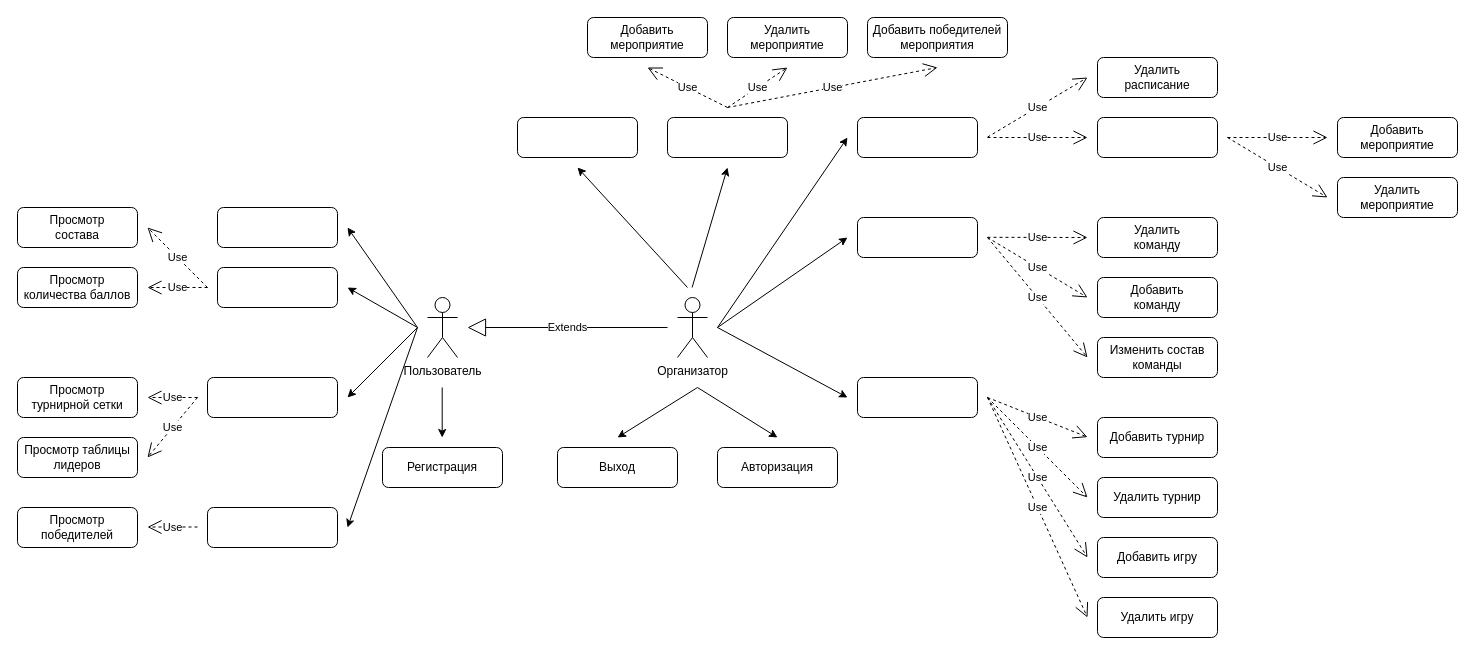
Some shapes in this 1475 by 655 pixel diagram are drawn without their labels. Here are the shapes that lost their labels. From the top down, the centre of each, then its label:
At point (577, 137): "Добавить баллы команде".
At point (727, 137): "Творчество".
At point (917, 137): "Расписание".
At point (1157, 137): "Добавить расписание".
At point (277, 227): "Просмотр расписания".
At point (917, 237): "Команды".
At point (277, 287): "Просмотр списка команд".
At point (272, 397): "Просмотр спортивных турниров".
At point (917, 397): "Спорт".
At point (272, 527): "Просмотр творческих мероприятий".
